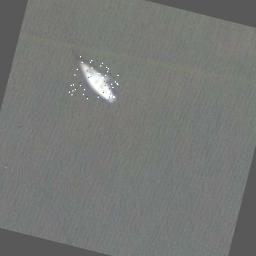boat: (68, 56, 124, 106)
